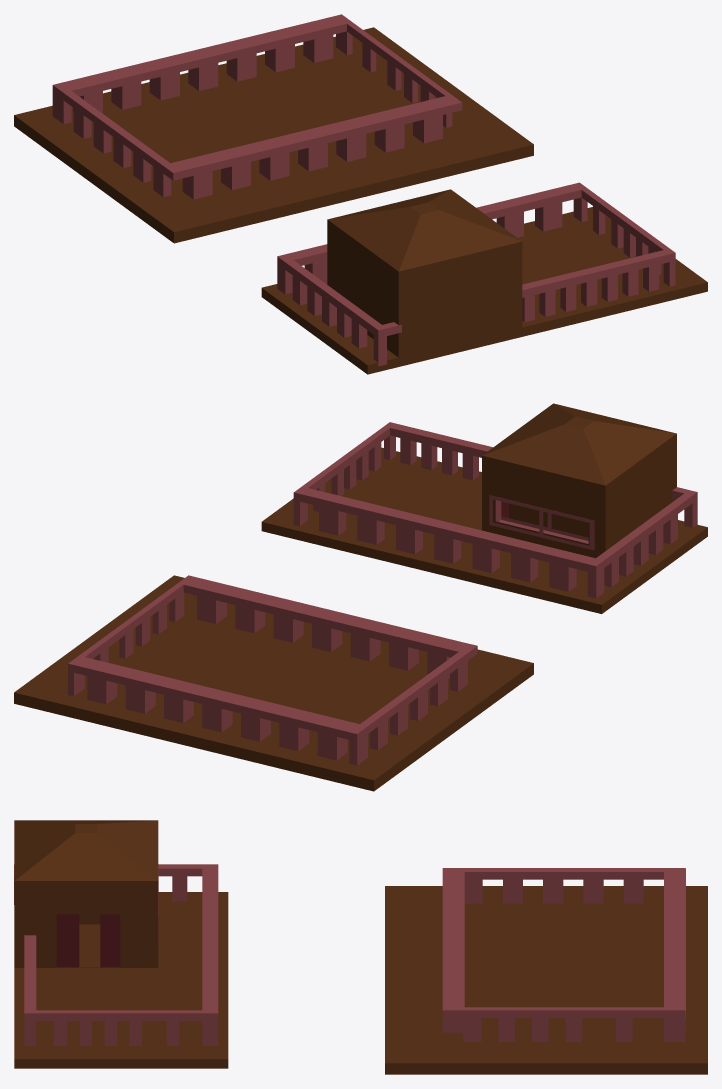
File: rancherias.fbx
3 renders of one model, top to bottom at view 1: azimuth 30°, elevation 25°; view 2: azimuth 150°, elevation 25°; view 3: azimuth 270°, elevation 25°, orthographic.
Parts seen in each view (by area): view 1: Cube.004, Cube, Cube.001, Cube.009, Cube.008, Cube.005; view 2: Cube.004, Cube, Cube.001, Cube.008, Cube.009, Cube.005, Cube.003; view 3: Cube.004, Cube, Cube.005, Cube.001, Cube.009, Cube.008, Cube.007, Cube.006.
Boxes of the visible parts, x1=… form: Cube.004: x1=14, y1=27, x2=533, y2=243; Cube: x1=261, y1=189, x2=707, y2=374; Cube.001: x1=277, y1=182, x2=675, y2=366; Cube.009: x1=170, y1=95, x2=462, y2=199; Cube.008: x1=56, y1=15, x2=351, y2=113; Cube.005: x1=52, y1=14, x2=452, y2=197; Cube.004: x1=14, y1=575, x2=533, y2=791; Cube: x1=261, y1=403, x2=707, y2=613; Cube.001: x1=293, y1=422, x2=697, y2=598; Cube.008: x1=68, y1=656, x2=366, y2=760; Cube.009: x1=179, y1=575, x2=468, y2=678; Cube.005: x1=68, y1=583, x2=477, y2=765; Cube.003: x1=489, y1=495, x2=594, y2=550; Cube.004: x1=385, y1=886, x2=707, y2=1074; Cube: x1=14, y1=820, x2=228, y2=1068; Cube.005: x1=442, y1=868, x2=685, y2=1041; Cube.001: x1=14, y1=864, x2=218, y2=1045; Cube.009: x1=442, y1=872, x2=464, y2=1032; Cube.008: x1=664, y1=868, x2=685, y2=1032; Cube.007: x1=56, y1=914, x2=79, y2=967; Cube.006: x1=100, y1=914, x2=120, y2=967.
Bounding box in the file's own units: 1277 × 401 × 2114.
